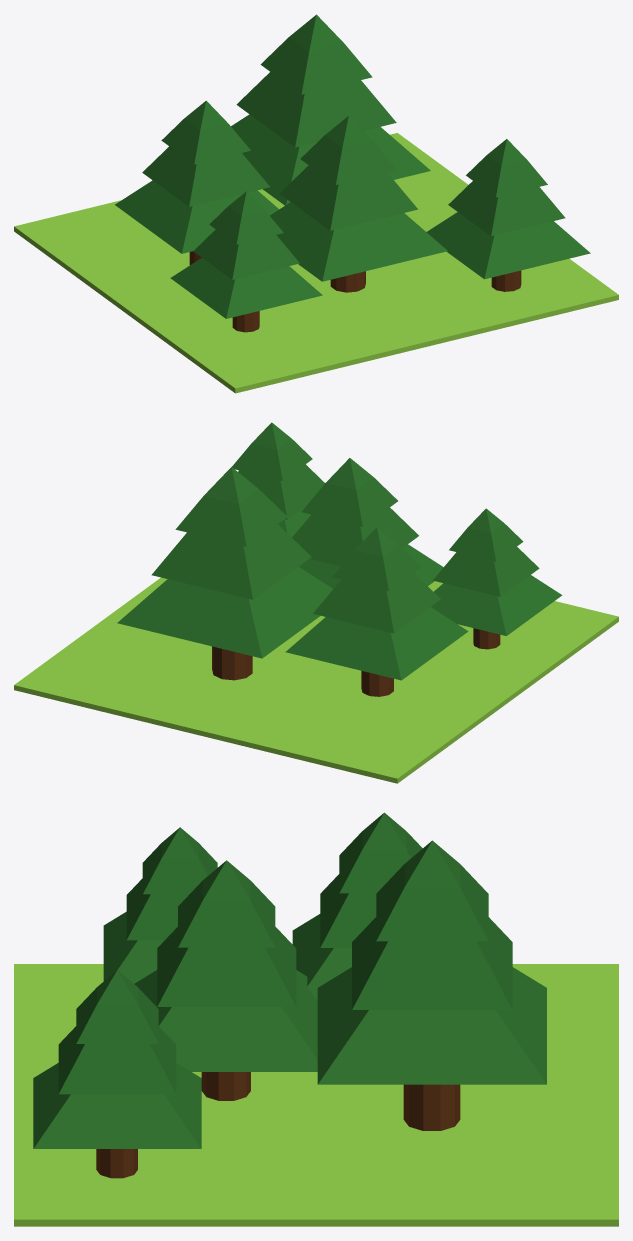
Rendered from forestResource.fbx.
3 renders of one model, top to bottom at view 1: azimuth 30°, elevation 25°; view 2: azimuth 150°, elevation 25°; view 3: azimuth 270°, elevation 25°, orthographic. The views are drawn at different scales.
Visible parts, largest first — view 1: Cube; view 2: Cube; view 3: Cube.
Part boxes in pixels (left/top/right/bottom): Cube: left=14, top=14, right=618, bottom=393; Cube: left=14, top=422, right=618, bottom=783; Cube: left=14, top=812, right=618, bottom=1226.
Size of the model in its own units: 1600 by 859 by 1600.
